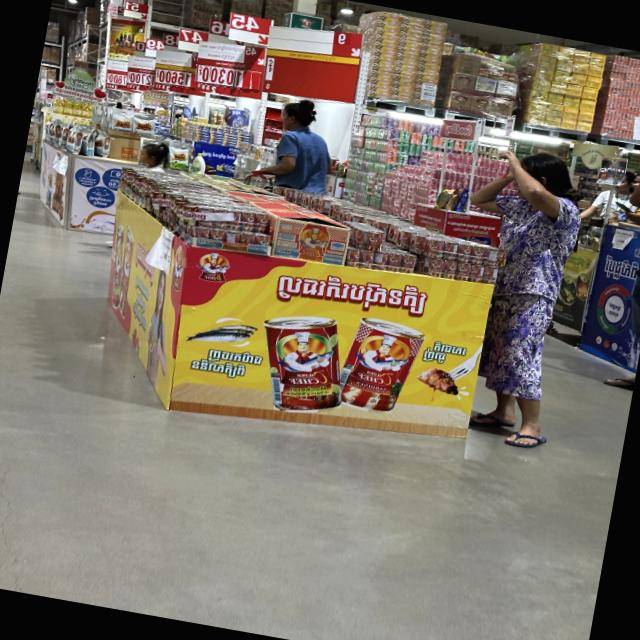Yolov11kh: (270, 265, 436, 325), (185, 355, 255, 380), (207, 340, 264, 369), (424, 336, 481, 359), (420, 349, 459, 366)
